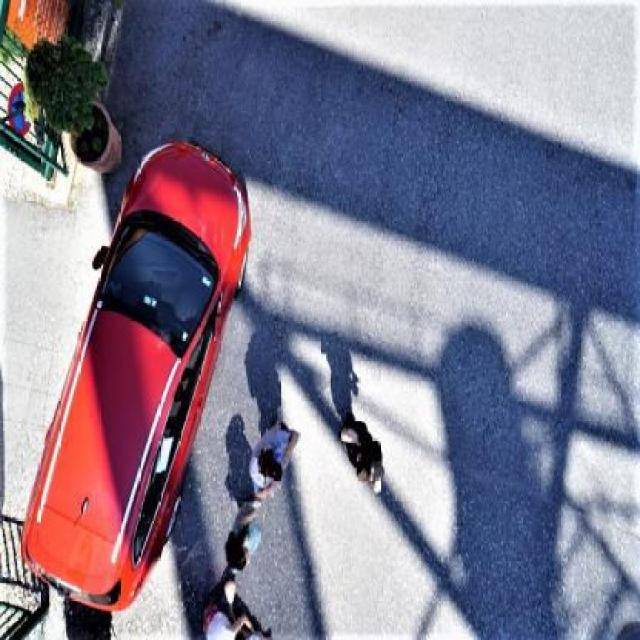Person: (236, 412, 302, 493), (208, 494, 267, 574), (335, 414, 388, 494)
